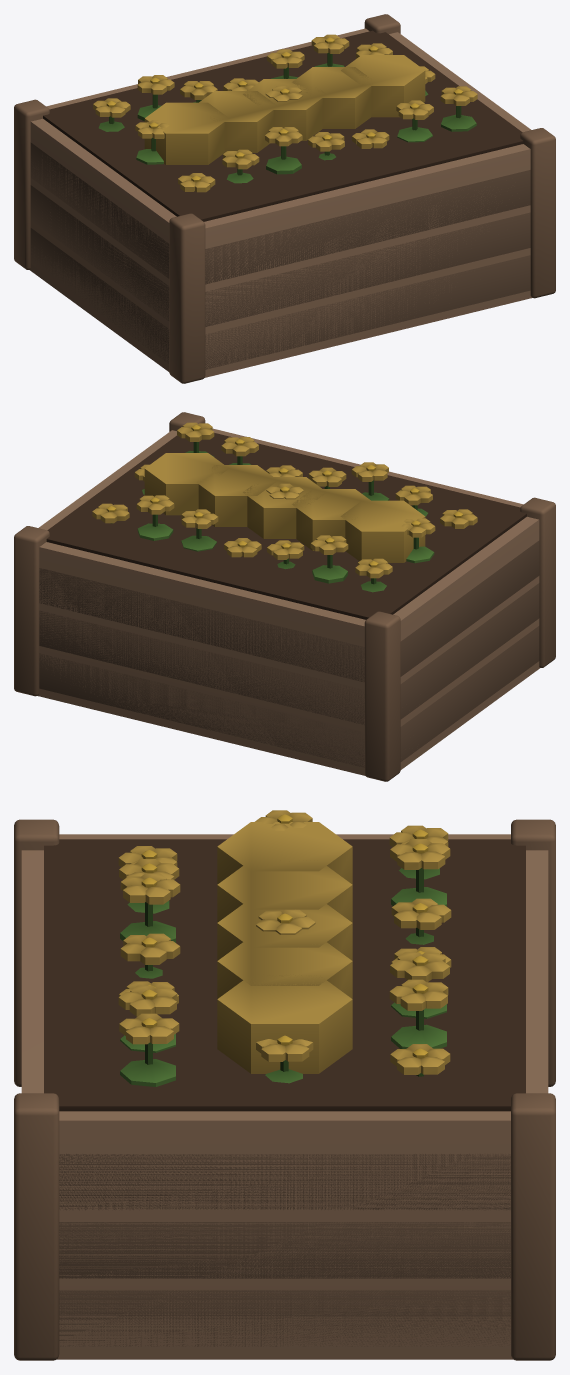
File: jardinera.glb
3 views of the same model, one above another, from view 1: azimuth 30°, elevation 25°; view 2: azimuth 150°, elevation 25°; view 3: azimuth 270°, elevation 25° (orthographic). The views are drawn at different scales.
Parts seen in each view (by area): view 1: lo_0, hd_0; view 2: lo_0, hd_0; view 3: lo_0, hd_0.
Part boxes in pixels (x1,y1,x2,y2): lo_0: [30, 28, 531, 377]; hd_0: [14, 14, 555, 383]; lo_0: [38, 428, 539, 775]; hd_0: [14, 412, 555, 781]; lo_0: [21, 822, 548, 1359]; hd_0: [14, 810, 555, 1360].
Bounding box in the file's own units: 0.92 × 0.4467 × 0.72.
